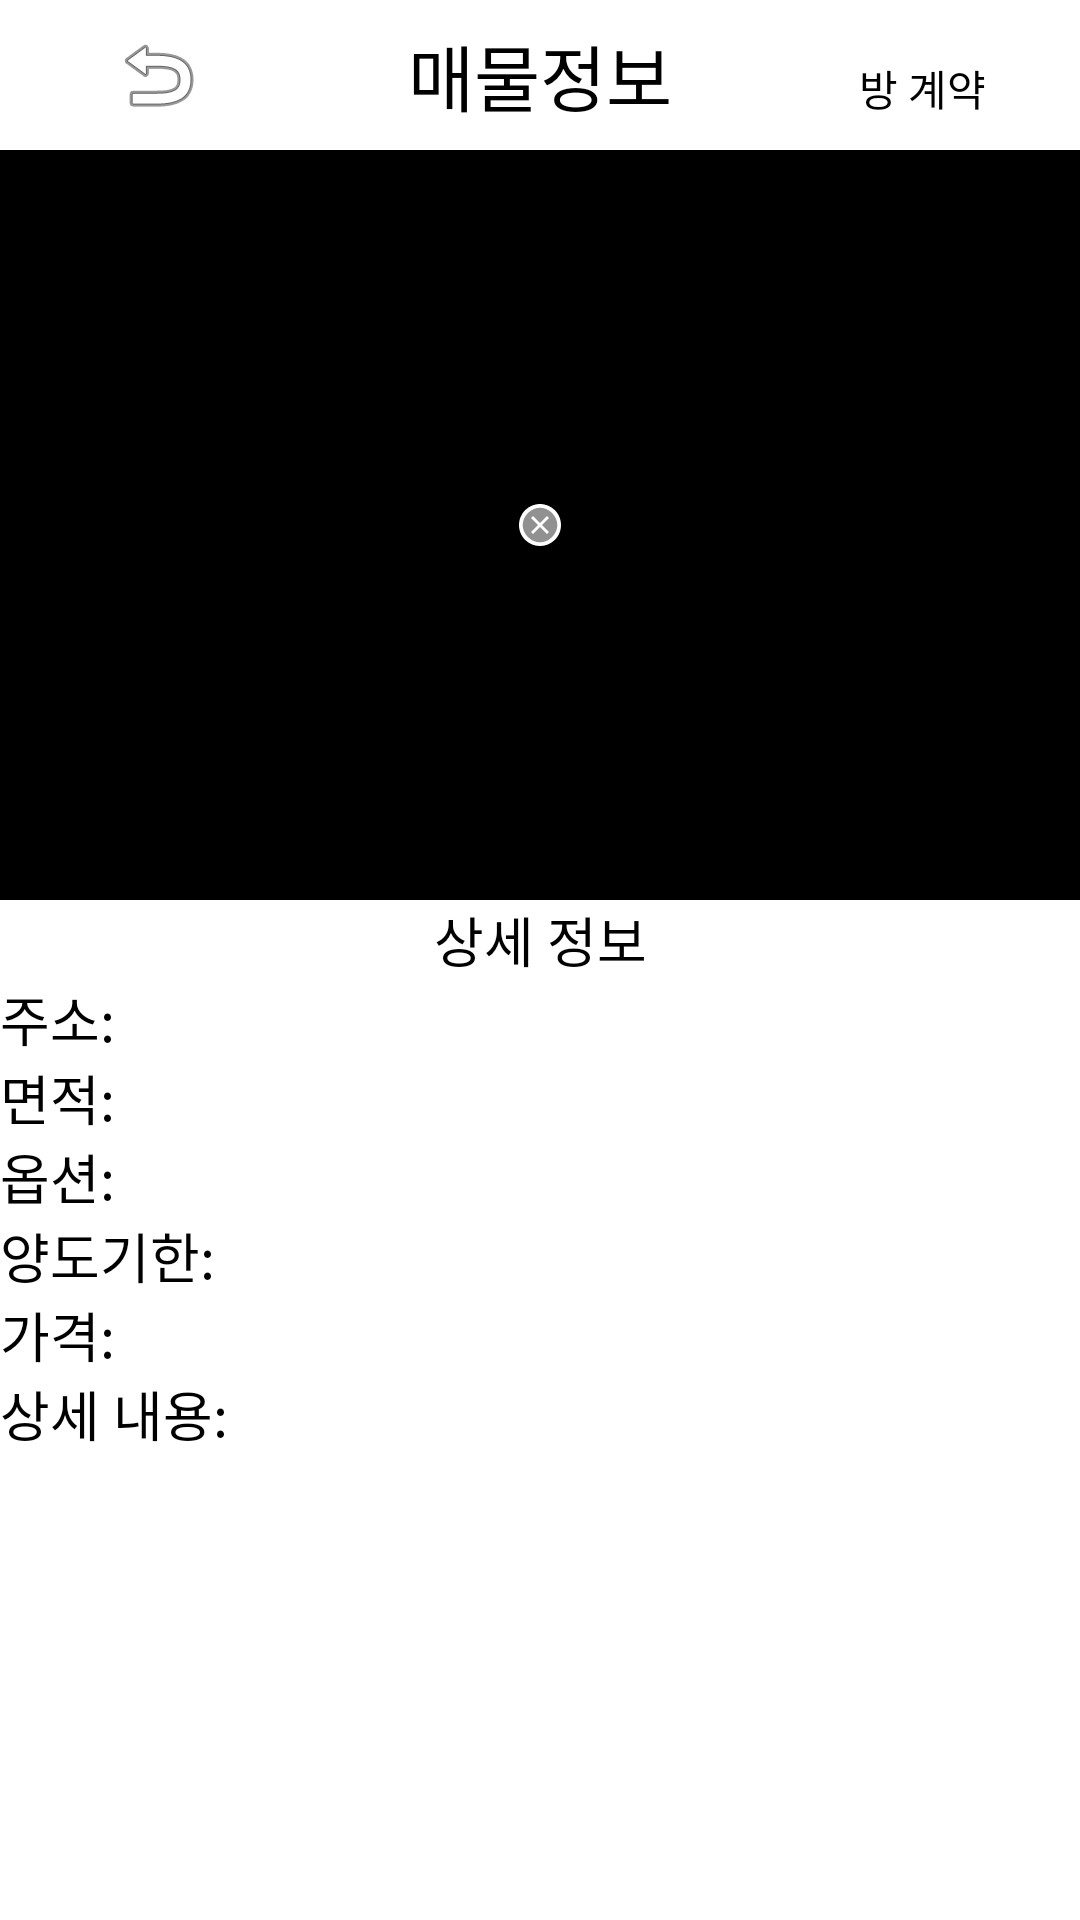

Where to tap for icons on this 1080×1920 app screen, as point (x, y):
revert: point (159, 75)
